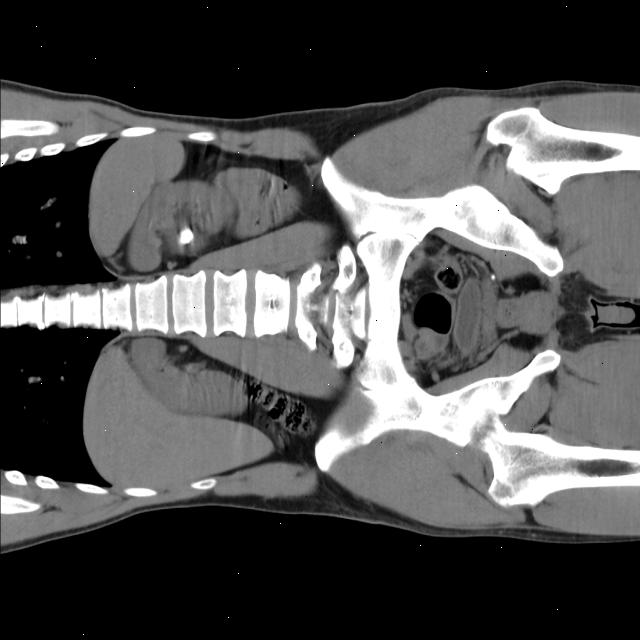kidneystone: (179, 226, 194, 244)
